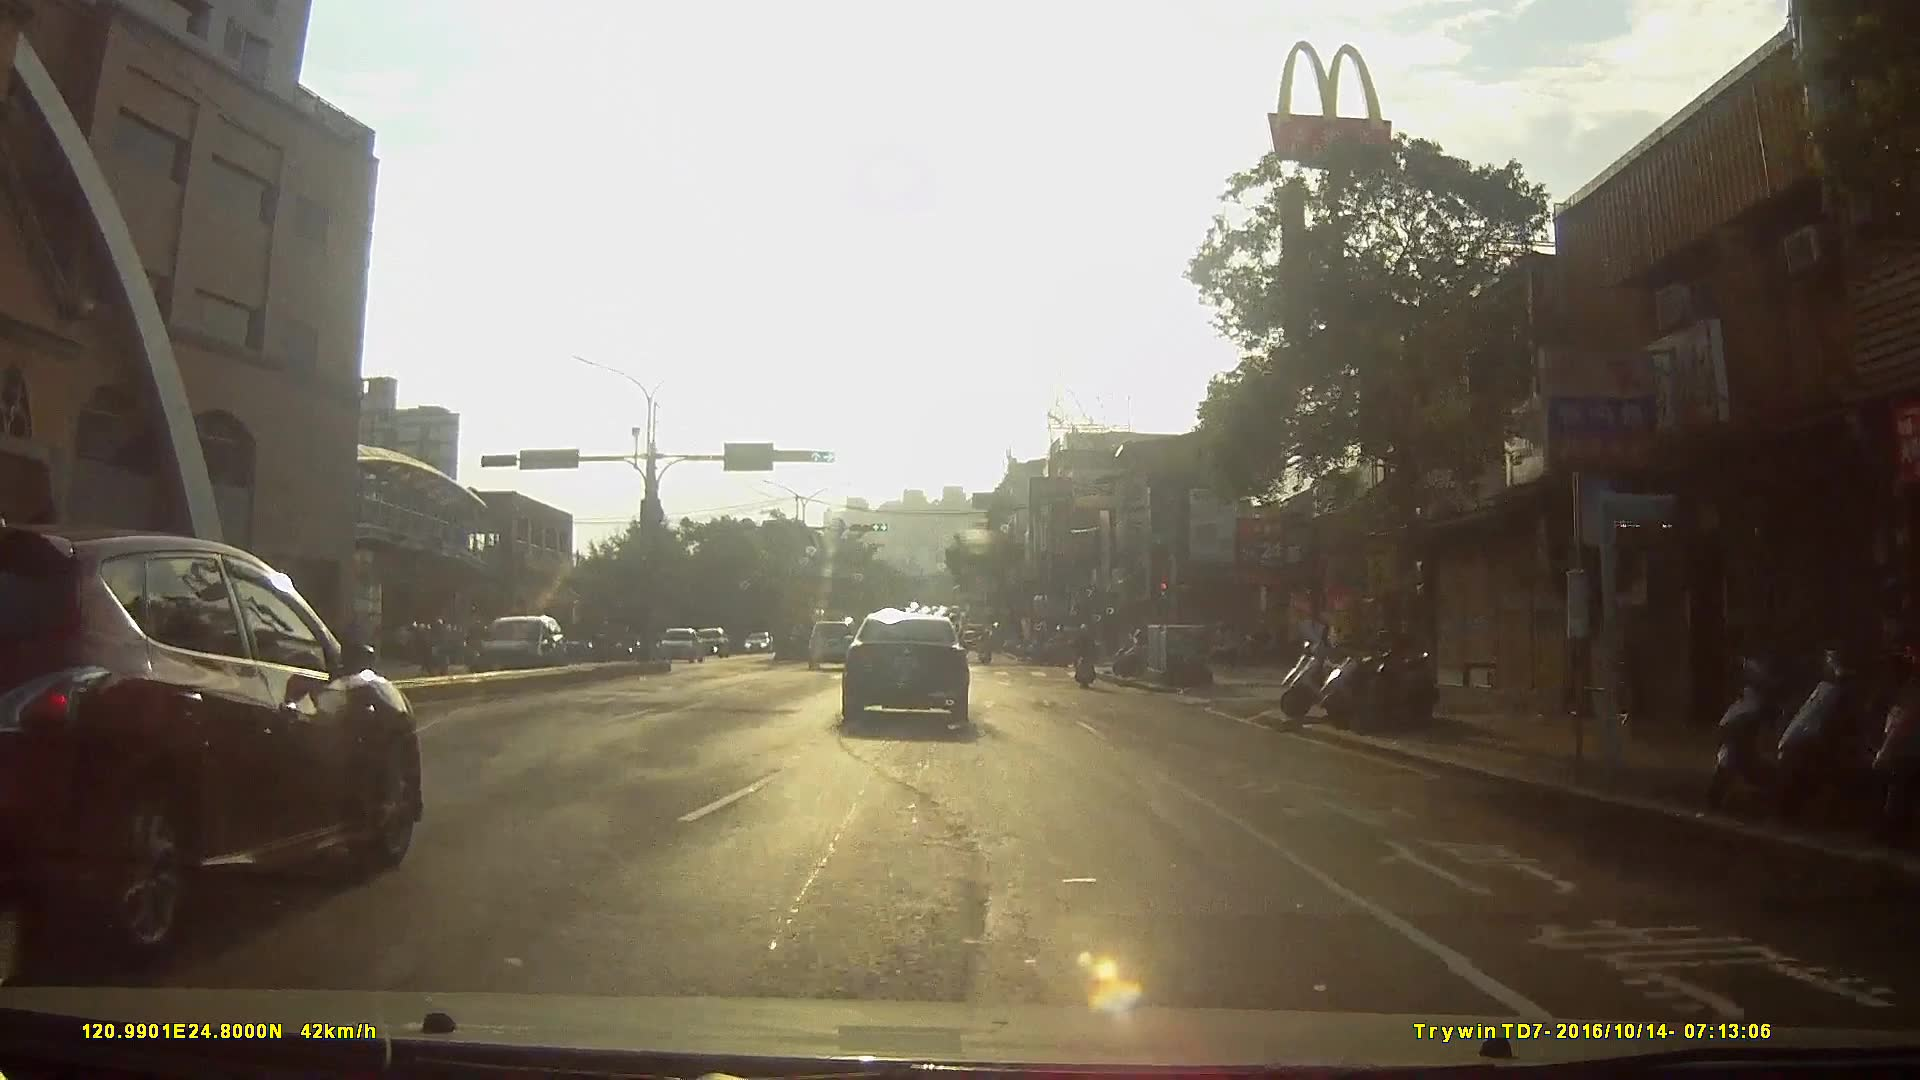rider: (1074, 623, 1100, 691), (1040, 628, 1077, 669), (976, 629, 998, 667)
vehicle: (1, 520, 436, 971), (839, 610, 987, 733), (459, 615, 570, 688), (803, 615, 860, 670), (654, 625, 706, 670), (693, 626, 735, 660), (742, 629, 776, 655)
